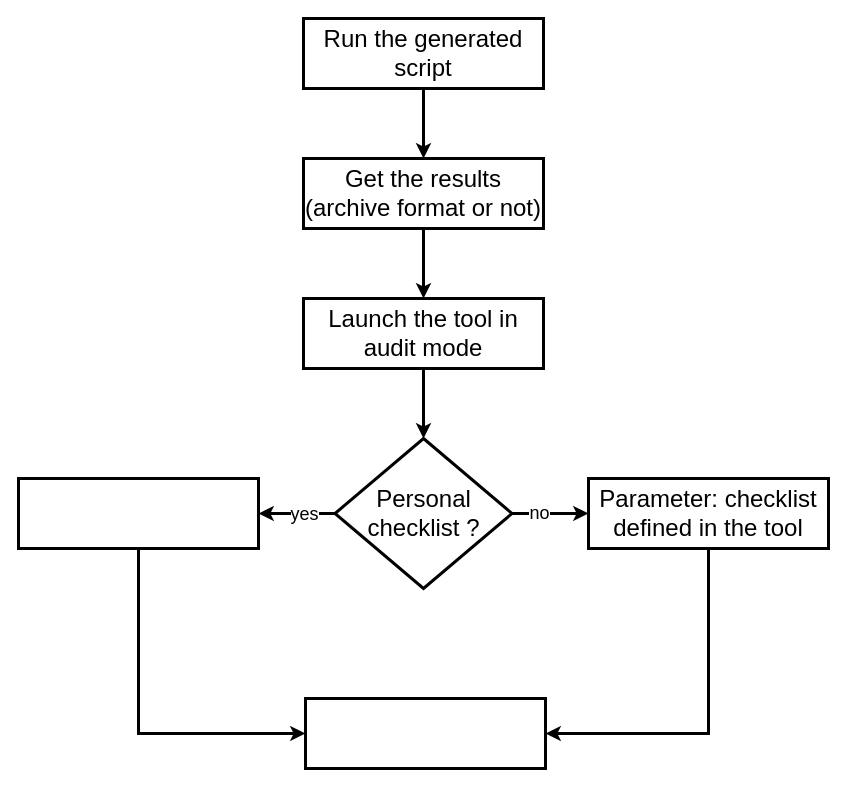
Some shapes in this 847 by 787 pixel diagram are drawn without their labels. Each missing label, with the box of its shape:
Analyze execution and report generation: (304, 696, 546, 770)
Parameter: path to the checklist: (16, 476, 260, 550)
